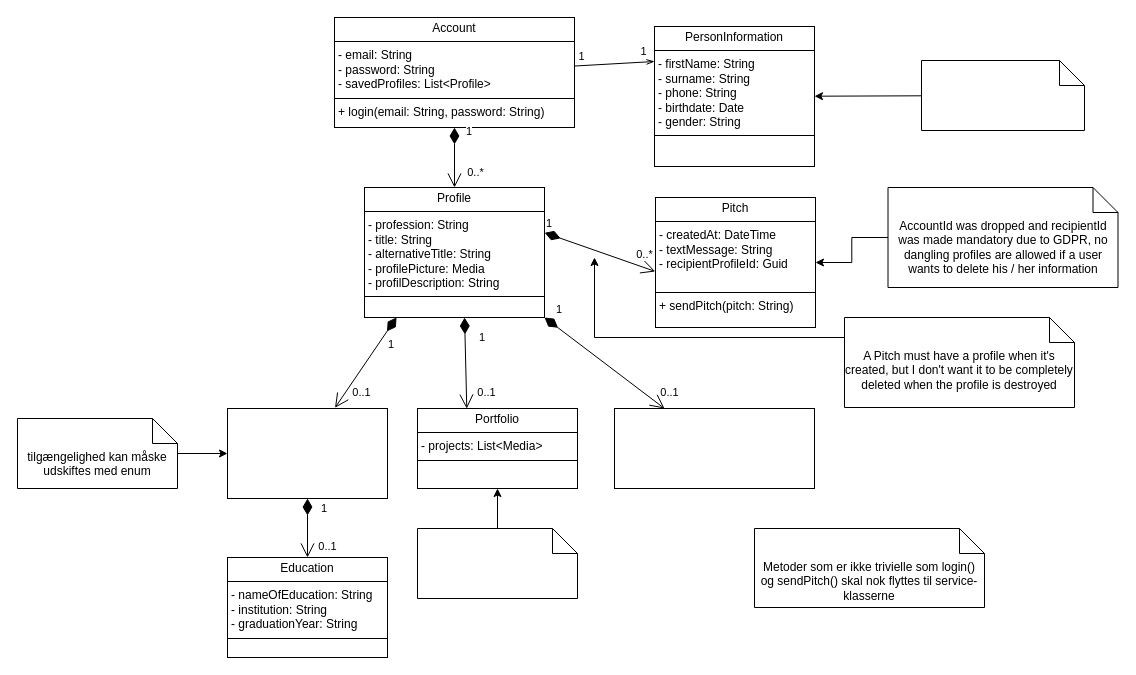
Some shapes in this 1136 by 675 pixel diagram are drawn without their labels. The box of each missing label's shape, as (x1, y1, x2, y2) in pixels:
AudienceSpecification - professions: List<String>: (614, 408, 814, 488)
Datatype for køn kan måske udskiftes med enum: (920, 60, 1084, 130)
Datatype for projekter er ikke afgjort: (416, 528, 578, 598)
Keyword - availability: String - yearsOfExperience: int: (226, 408, 388, 498)
